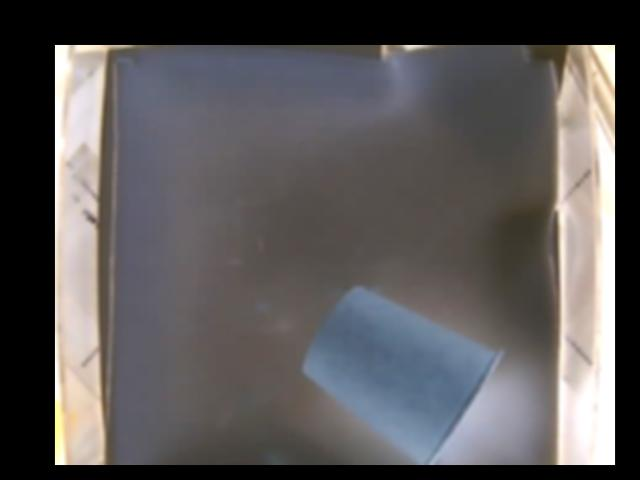Cup: (299, 286, 501, 464)
